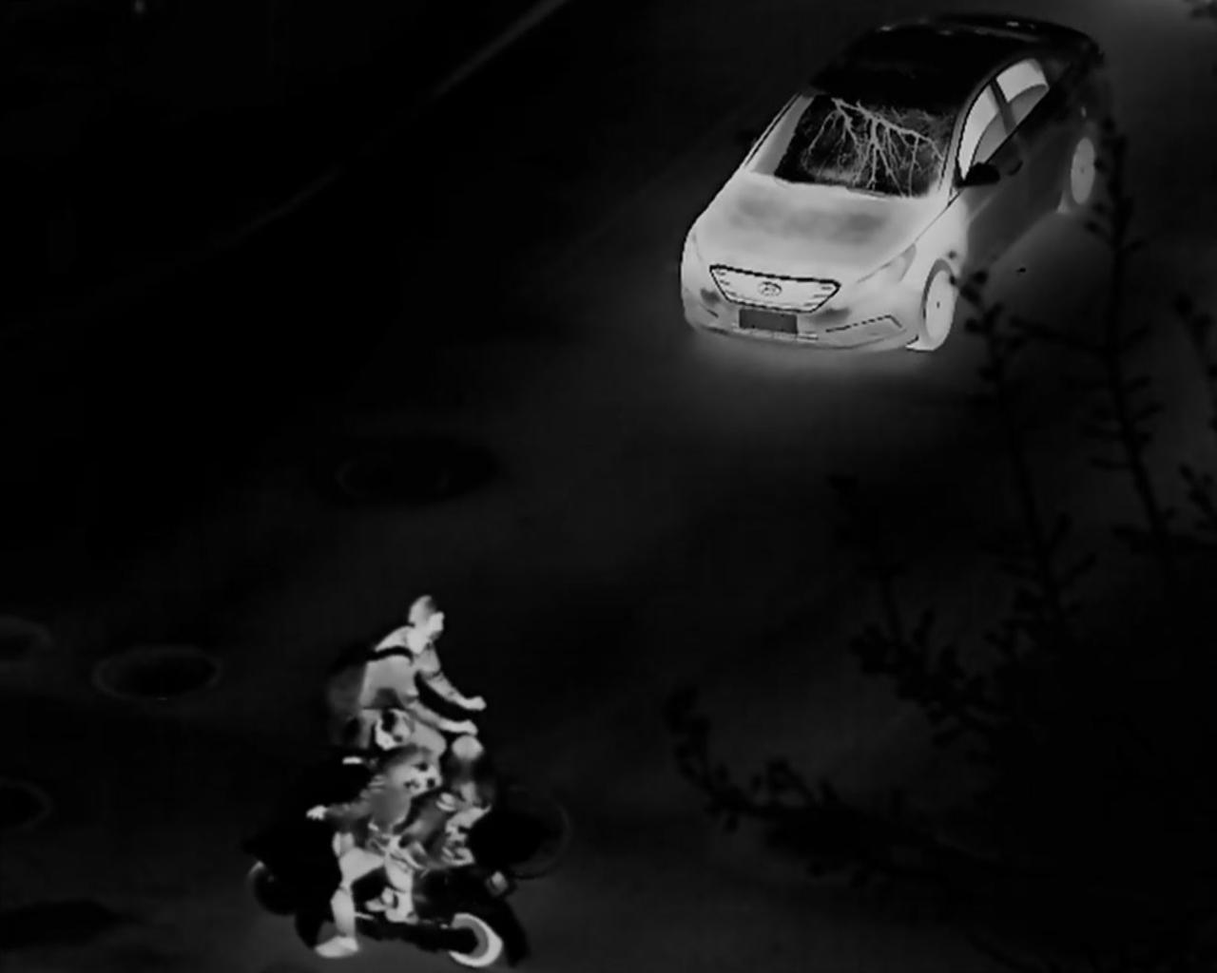person: (312, 713, 442, 958), (382, 731, 494, 925), (363, 594, 487, 735)
